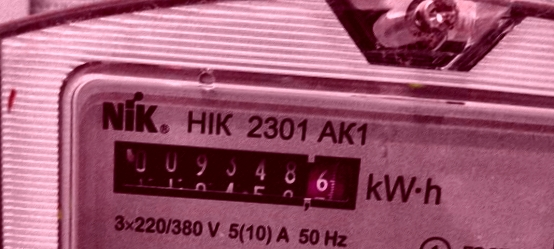0: (132, 148, 149, 175), (163, 147, 179, 174)
3: (224, 152, 239, 178)
4: (250, 152, 270, 183)
6: (313, 164, 332, 195)
8: (282, 157, 299, 186)
9: (193, 152, 209, 180)
screen: (93, 125, 375, 222)
